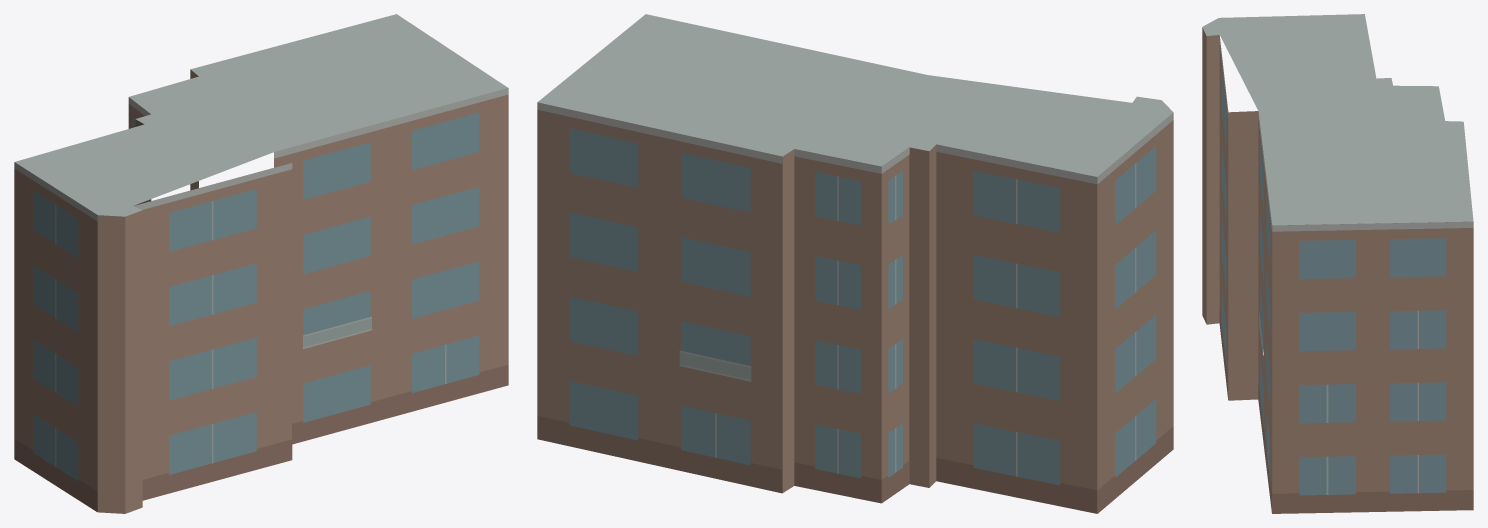
The model's file is survey-upis-32660839.glb.
3 renders of one model, left to right at view 1: azimuth 30°, elevation 25°; view 2: azimuth 150°, elevation 25°; view 3: azimuth 270°, elevation 25°, orthographic. The views are drawn at different scales.
Visible parts, largest first — view 1: survey-upis-32660839.tmp; view 2: survey-upis-32660839.tmp; view 3: survey-upis-32660839.tmp.
Part boxes in pixels (x1,y1,x2,y2): survey-upis-32660839.tmp: (14, 14, 508, 513); survey-upis-32660839.tmp: (537, 14, 1173, 513); survey-upis-32660839.tmp: (1202, 14, 1473, 513).
Size of the model in its own units: 17.61 by 11.2 by 9.55.
